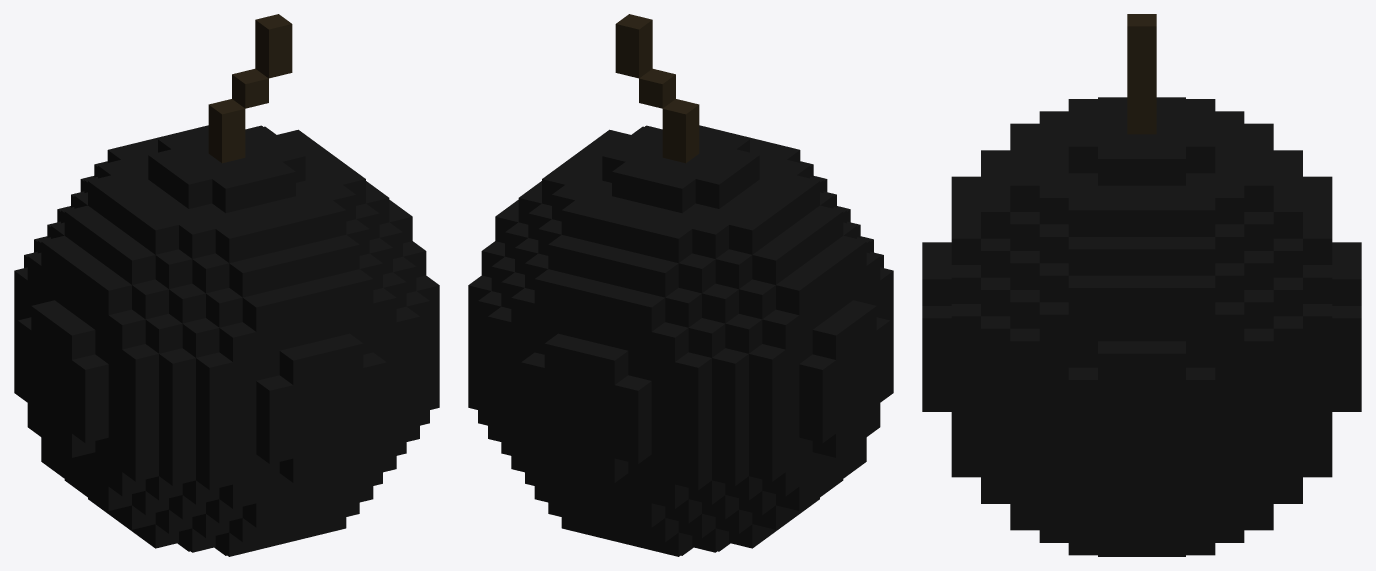
The model's file is Bomb.obj.
3 views of the same model, side by side, from view 1: azimuth 30°, elevation 25°; view 2: azimuth 150°, elevation 25°; view 3: azimuth 270°, elevation 25° (orthographic). The views are drawn at different scales.
Bounding box in the file's own units: 1.5 × 2 × 1.5.
1 material, 1 textured.
